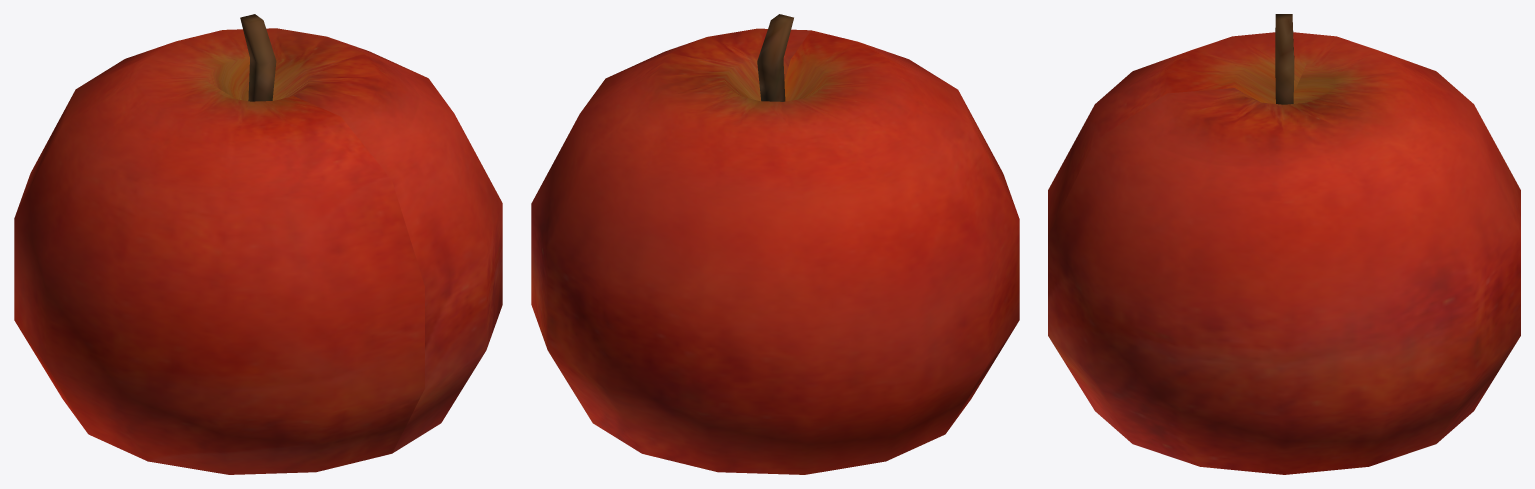
Rendered from Apple.fbx.
3 views of the same model, side by side, from view 1: azimuth 30°, elevation 25°; view 2: azimuth 150°, elevation 25°; view 3: azimuth 270°, elevation 25° (orthographic).
Parts seen in each view (by area): view 1: Apple; view 2: Apple; view 3: Apple.
Boxes of the visible parts, x1=… form: Apple: x1=14, y1=14, x2=502, y2=474; Apple: x1=531, y1=14, x2=1019, y2=474; Apple: x1=1048, y1=14, x2=1520, y2=474.
Size of the model in its own units: 0.0295 by 0.0266 by 0.0287.
Materials: 1 (1 with a texture image).
